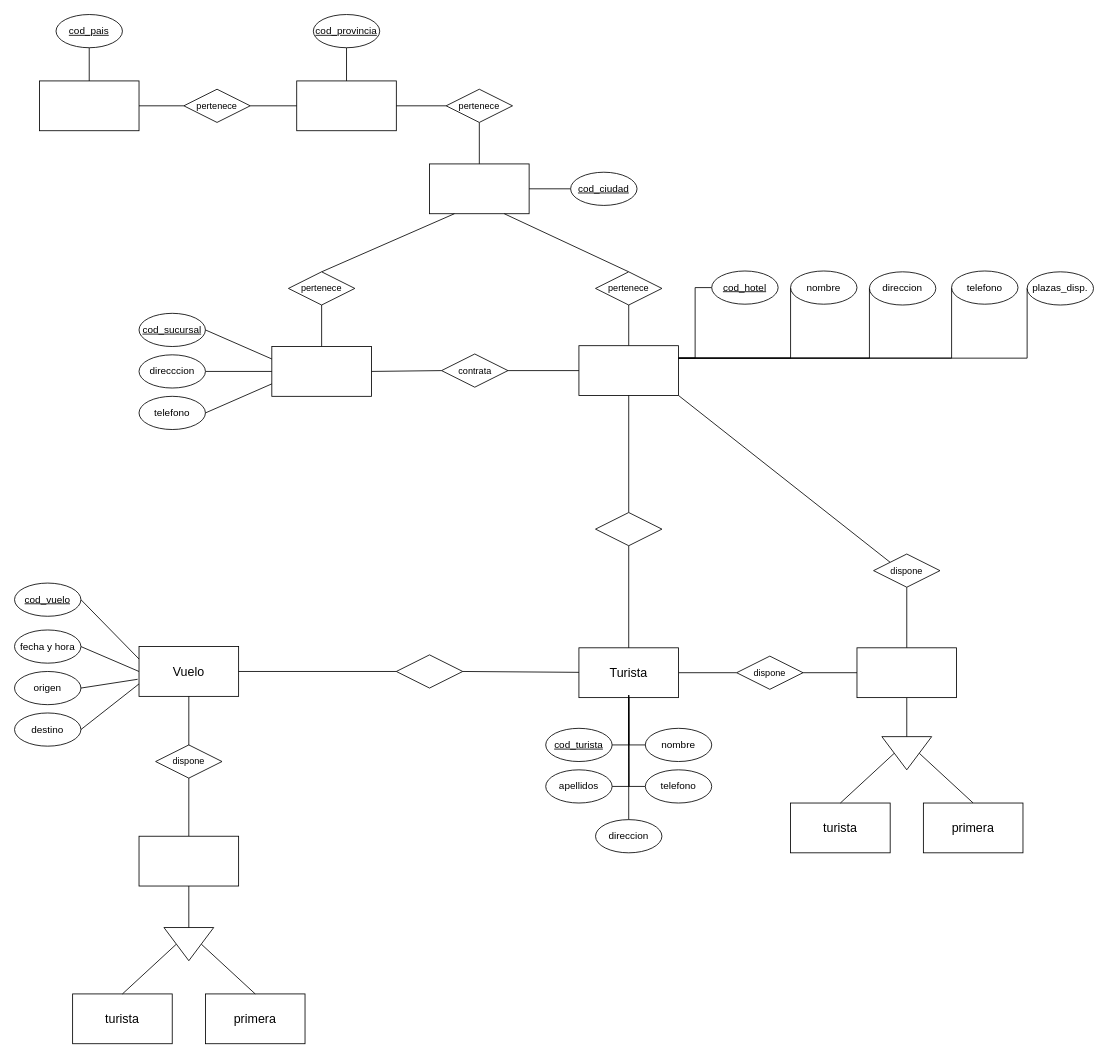
The diagram is 1108 pixels wide and 1058 high, and some of its shapes have lost their labels. The centre of each missing label's shape, as x and y in pixels:
"ciudad" goes at (479,188).
"elige" goes at (429,671).
"hopedaje" goes at (906,672).
"hospeda" goes at (628,529).
"Hotel" goes at (628,370).
"pais" goes at (89,105).
"plazas" goes at (188,860).
"provincia" goes at (346,105).
"Sucursales" goes at (321,371).
